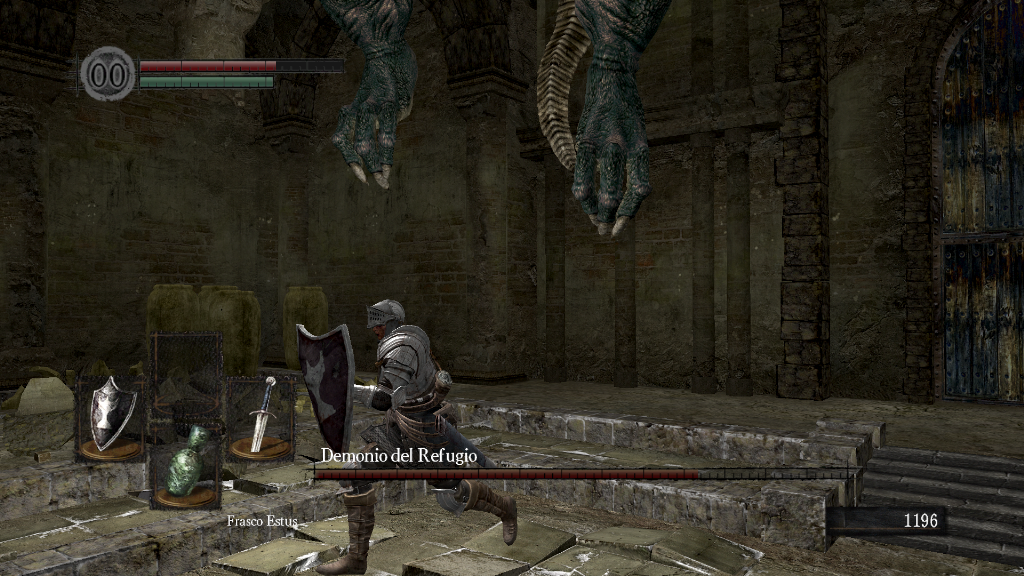asylumDemon: (283, 2, 675, 246)
bossHP: (314, 469, 847, 479)
health: (138, 58, 343, 71)
humanity: (80, 45, 136, 102)
player: (292, 297, 520, 576)
souls: (825, 506, 945, 536)
stamina: (138, 74, 274, 88)
